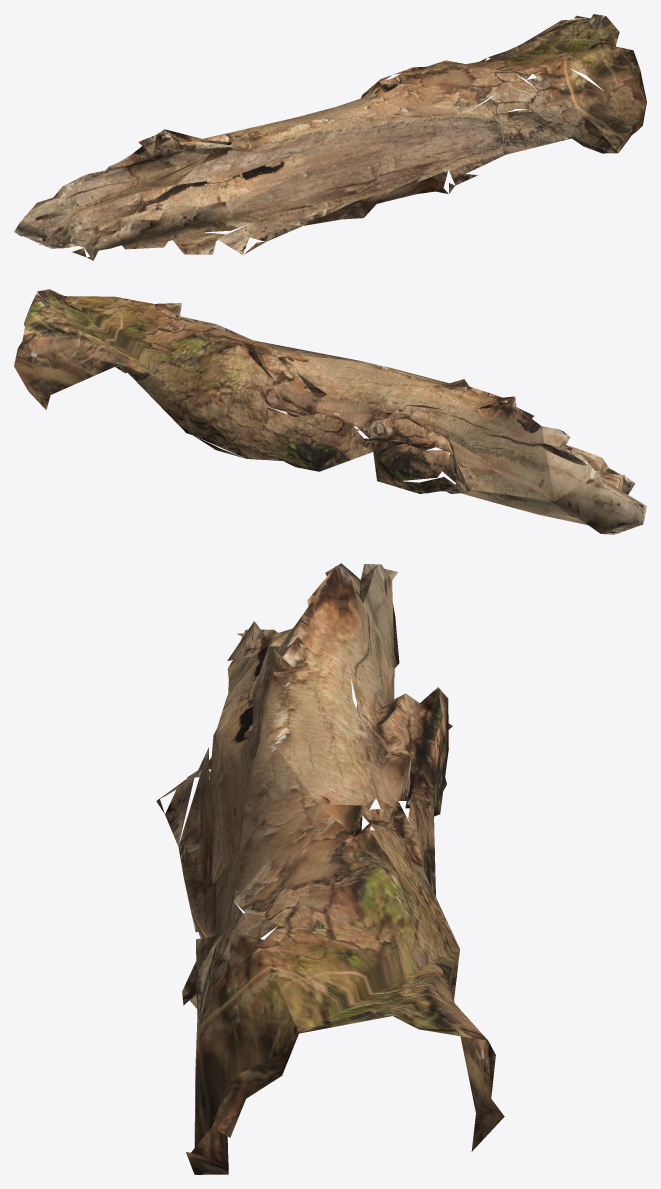
3 renders of one model, top to bottom at view 1: azimuth 30°, elevation 25°; view 2: azimuth 150°, elevation 25°; view 3: azimuth 270°, elevation 25°, orthographic. The views are drawn at different scales.
Parts seen in each view (by area): view 1: LP; view 2: LP; view 3: LP.
Part boxes in pixels (bbox=[...]): LP: bbox=[14, 14, 646, 260]; LP: bbox=[14, 289, 646, 534]; LP: bbox=[156, 563, 504, 1174].
Size of the model in its own units: 271 by 45.79 by 69.1.
Materials: 1 (1 with a texture image).
